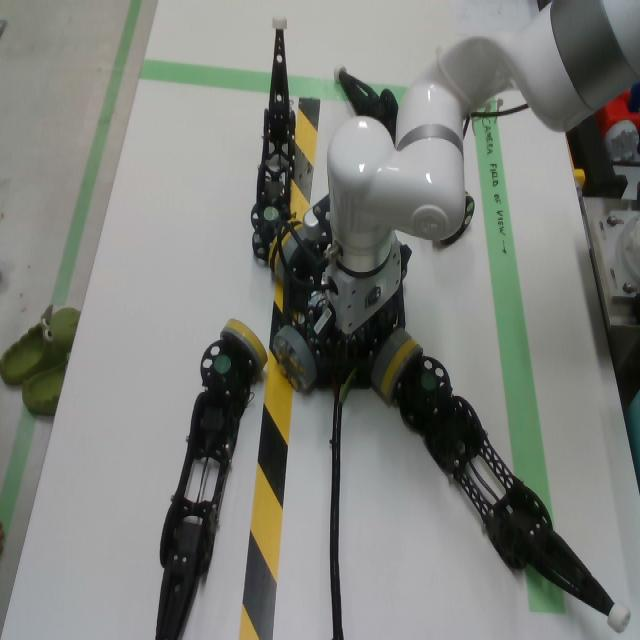body: (283, 256, 405, 388)
body_connector: (273, 325, 318, 392), (282, 235, 298, 263), (276, 255, 285, 279), (297, 228, 307, 240)
gripper: (312, 241, 411, 364)
leg: (381, 339, 632, 633), (155, 319, 269, 640), (250, 12, 303, 273), (333, 61, 398, 144)
leg_connector: (219, 319, 268, 379), (380, 339, 423, 400), (440, 189, 475, 245), (269, 220, 303, 275)
leg_marker: (371, 328, 411, 388), (215, 355, 231, 373), (421, 373, 436, 388), (264, 207, 279, 219)
